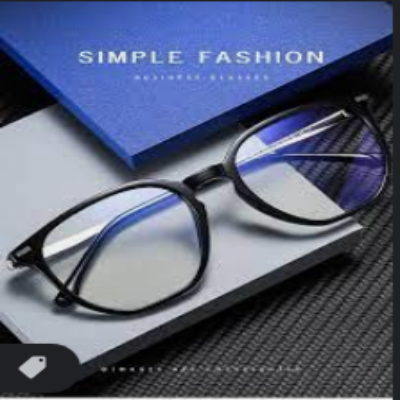glasses: (5, 88, 396, 321)
